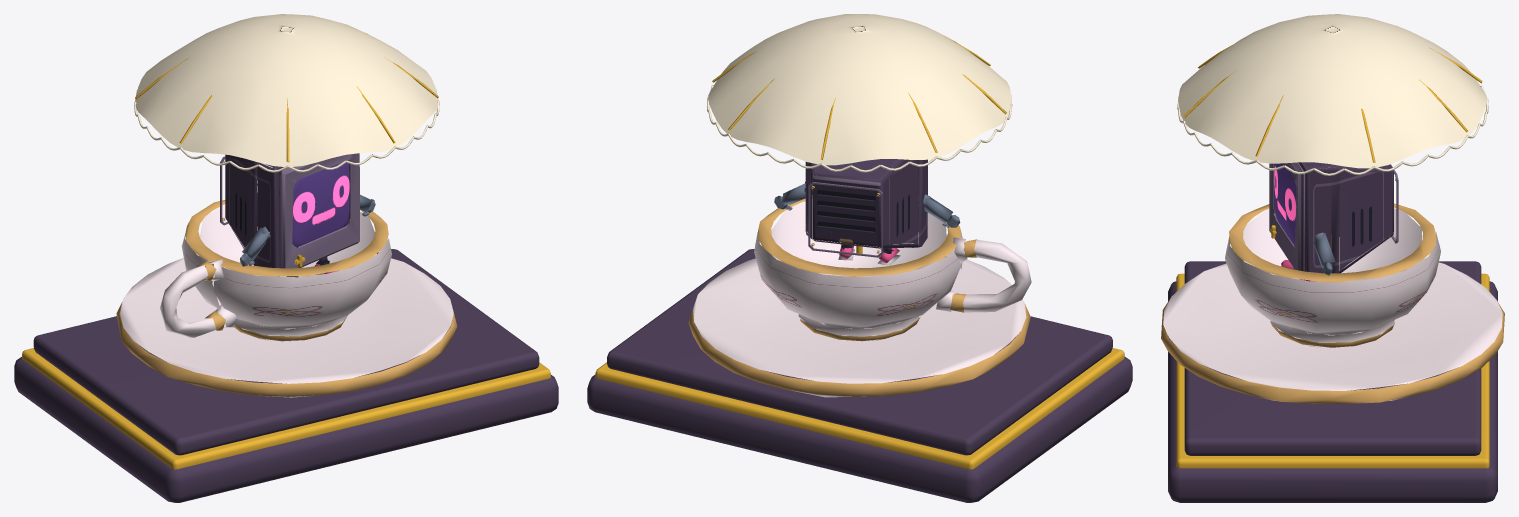
File: kart.umbrella.lace.glb
3 renders of one model, left to right at view 1: azimuth 30°, elevation 25°; view 2: azimuth 150°, elevation 25°; view 3: azimuth 270°, elevation 25°, orthographic.
Parts seen in each view (by area): view 1: emi_teacup_mesh, lace_canopy, stand_display_top, stand_display_base, stand_brass_band, stand_identity_face; view 2: emi_teacup_mesh, lace_canopy, stand_display_top, stand_display_base, stand_brass_band; view 3: emi_teacup_mesh, lace_canopy, stand_display_top, stand_display_base, stand_brass_band, stand_identity_face.
Boxes of the visible parts, box(x1,y1,x2,y2) form: emi_teacup_mesh: box(116, 153, 457, 397); lace_canopy: box(135, 14, 438, 166); stand_display_top: box(33, 249, 539, 455); stand_display_base: box(14, 357, 558, 502); stand_brass_band: box(22, 348, 550, 469); stand_identity_face: box(292, 160, 349, 247); emi_teacup_mesh: box(688, 159, 1031, 397); lace_canopy: box(708, 14, 1010, 165); stand_display_top: box(607, 249, 1112, 455); stand_display_base: box(587, 357, 1132, 502); stand_brass_band: box(595, 348, 1124, 469); emi_teacup_mesh: box(1161, 162, 1504, 404); lace_canopy: box(1178, 14, 1487, 168); stand_display_top: box(1184, 261, 1481, 455); stand_display_base: box(1168, 281, 1497, 502); stand_brass_band: box(1176, 273, 1489, 468); stand_identity_face: box(1274, 163, 1296, 246).
Bounding box in the file's own units: 0.64 × 0.5818 × 0.4765.
4 materials, 2 textured.
